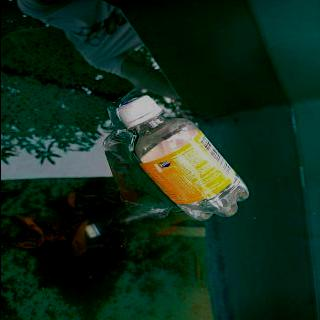bottle: (112, 94, 250, 222)
